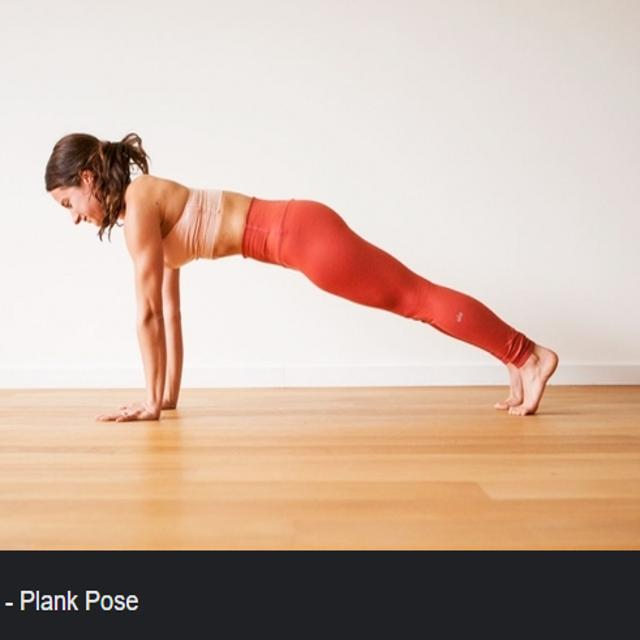Plank_Pose: (40, 125, 572, 430)
